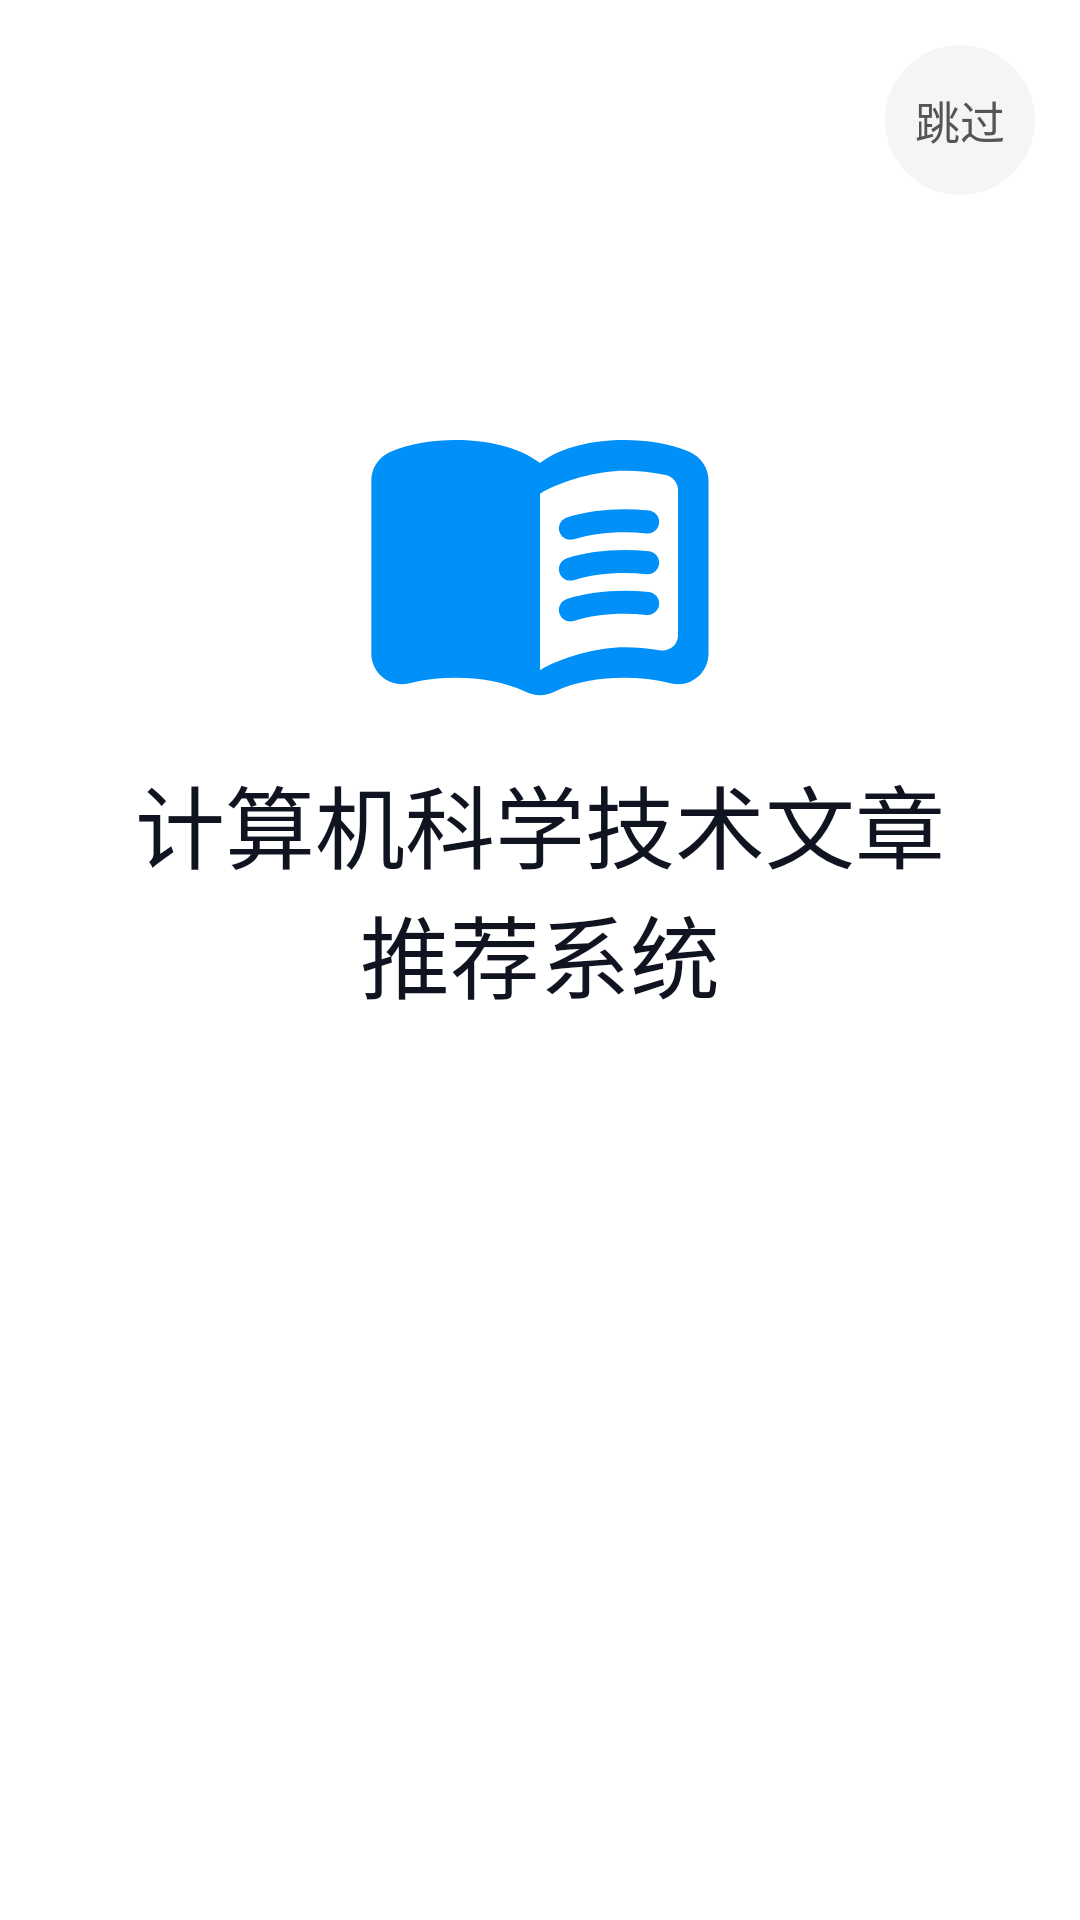

Locate icon controls on the screen. Image size 1080w x 1920h, boxes as (x1, y1, x2, y2).
book: (371, 440, 709, 696)
